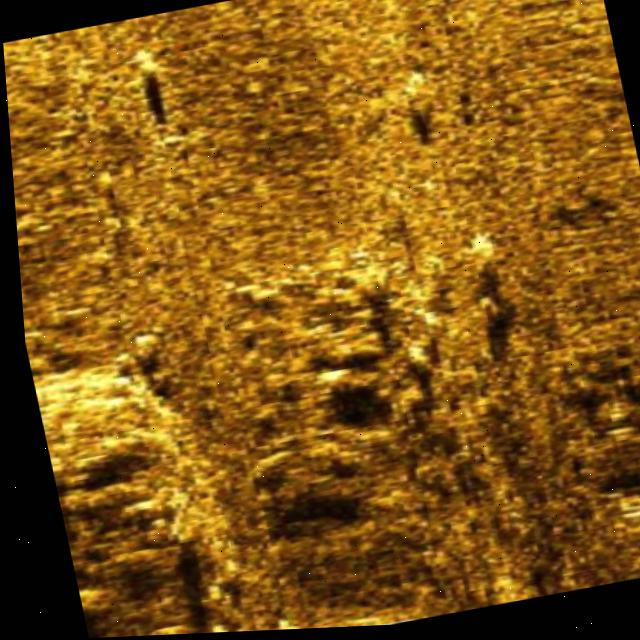bedrock group: (18, 302, 268, 640)
